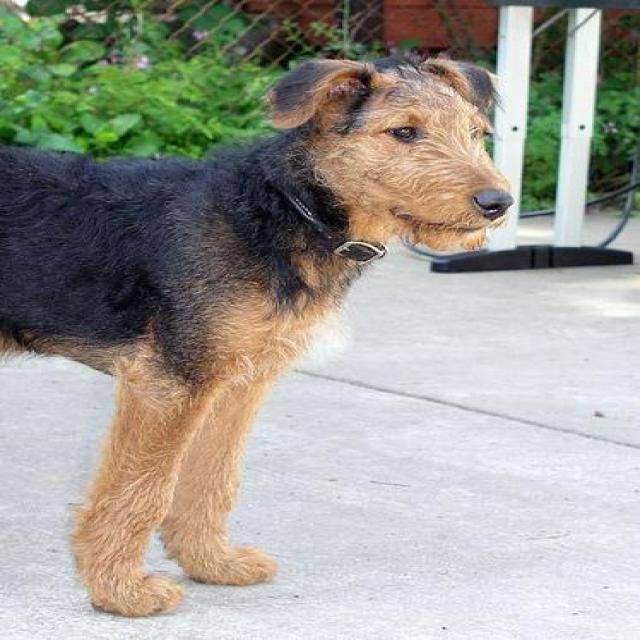airedale: (4, 49, 524, 623)
